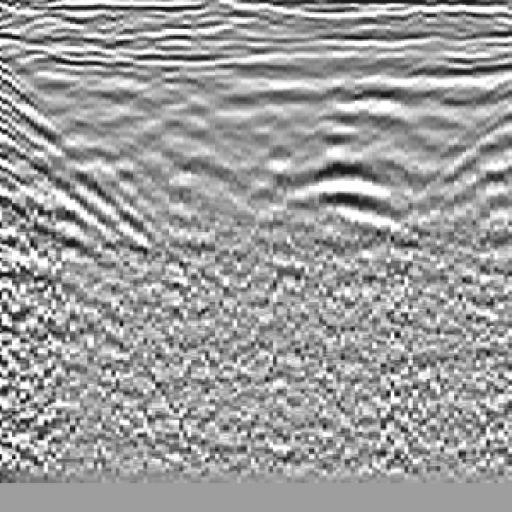metalic: (248, 125, 454, 282)
nonmetalic: (1, 35, 156, 277)
